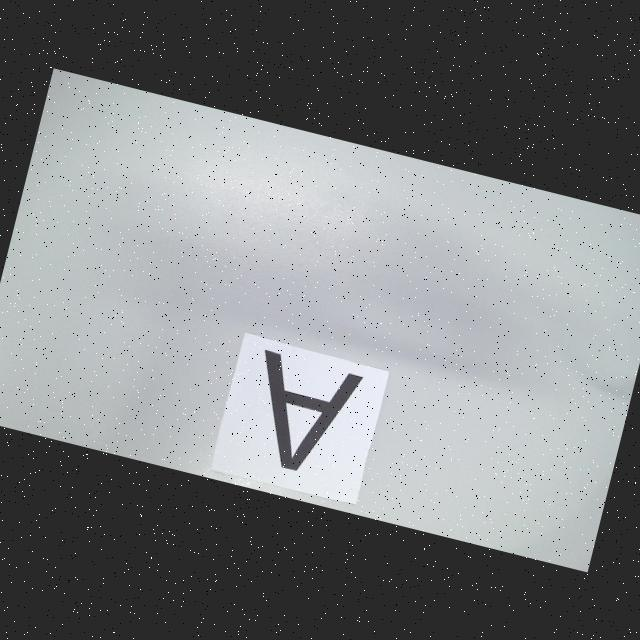FAKE: (238, 350, 364, 481)
